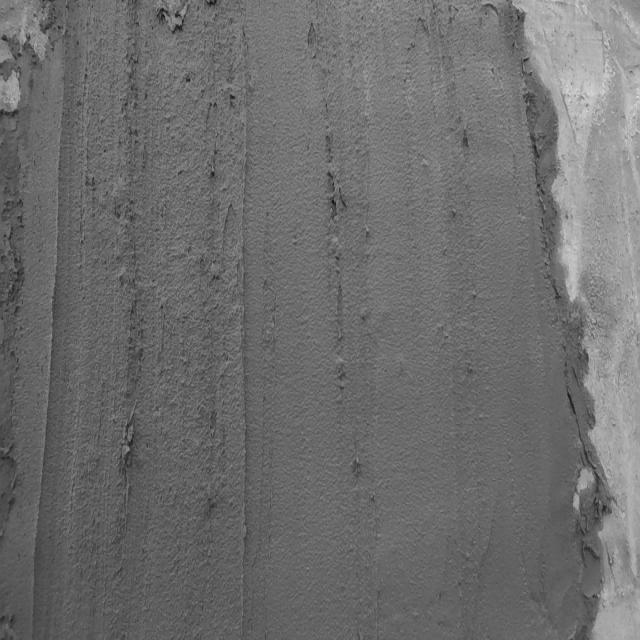trowels marks: (33, 83, 65, 635), (114, 15, 142, 518), (234, 51, 254, 631)
